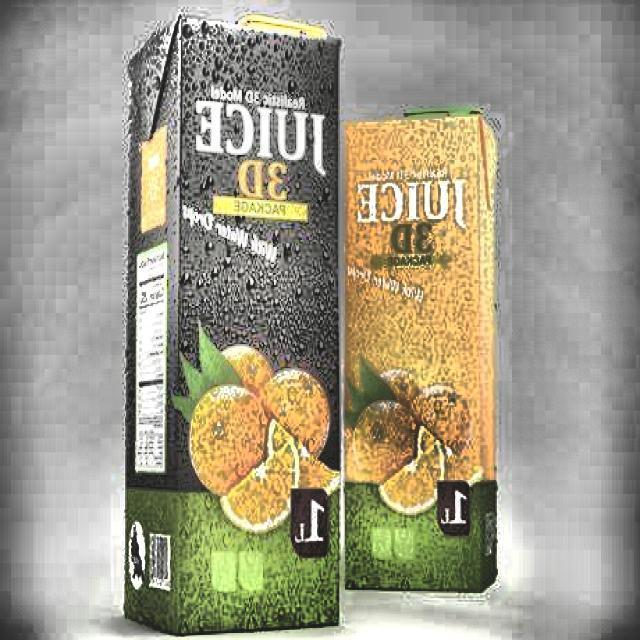cardboard: (124, 12, 344, 635), (344, 106, 499, 593)
